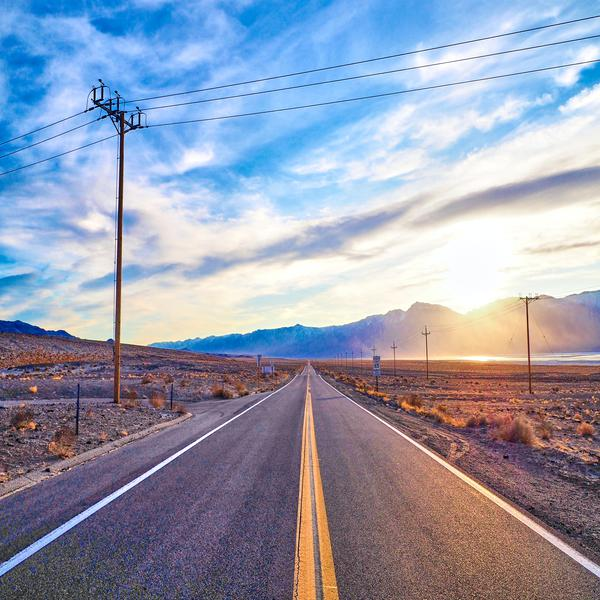utility_pole: (80, 70, 156, 169), (511, 288, 543, 319)
